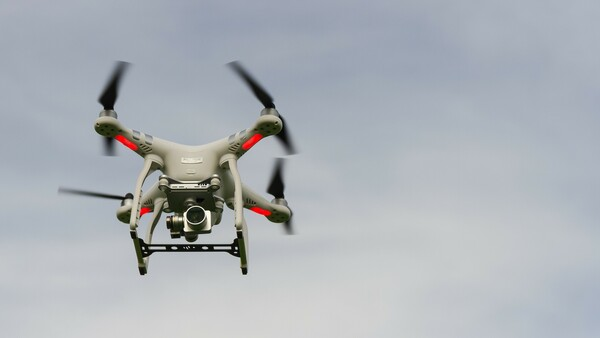drone: (55, 57, 305, 278)
